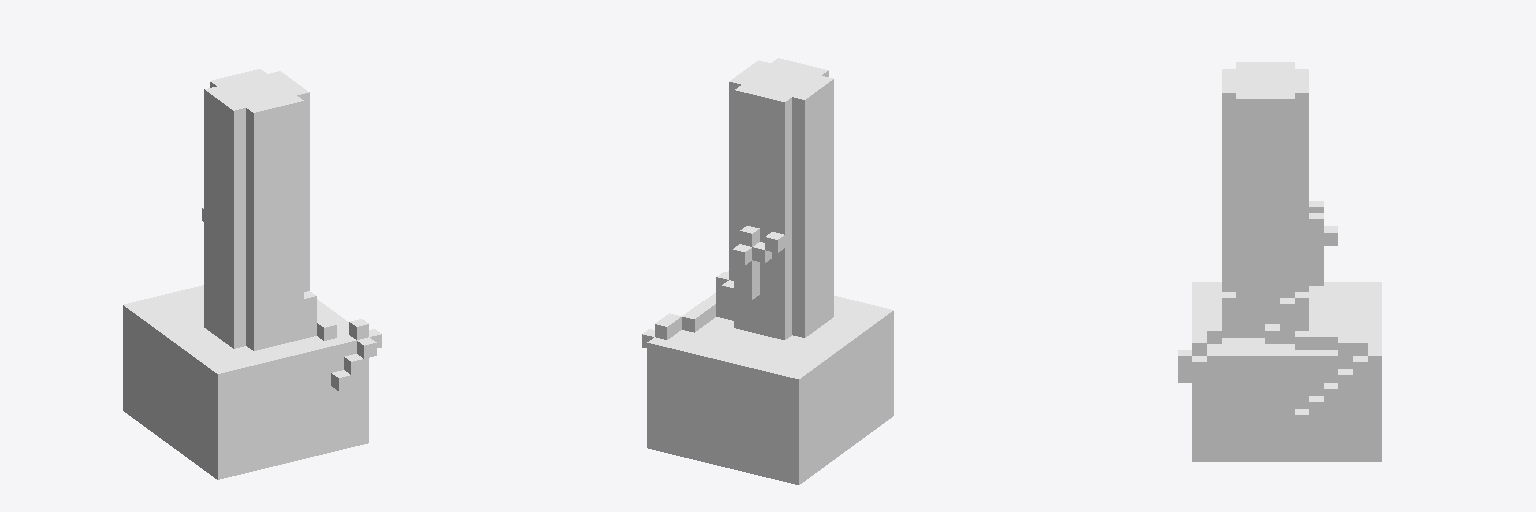
Rendered from drillBroken-1.obj.
3 views of the same model, side by side, from view 1: azimuth 30°, elevation 25°; view 2: azimuth 150°, elevation 25°; view 3: azimuth 270°, elevation 25° (orthographic).
Parts seen in each view (by area): view 1: object 1; view 2: object 1; view 3: object 1.
Part boxes in pixels (left/top/right/bottom): object 1: left=123, top=69, right=381, bottom=479; object 1: left=642, top=58, right=893, bottom=484; object 1: left=1178, top=62, right=1381, bottom=461.
Bounding box in the file's own units: 1.3 × 2.6 × 1.4.